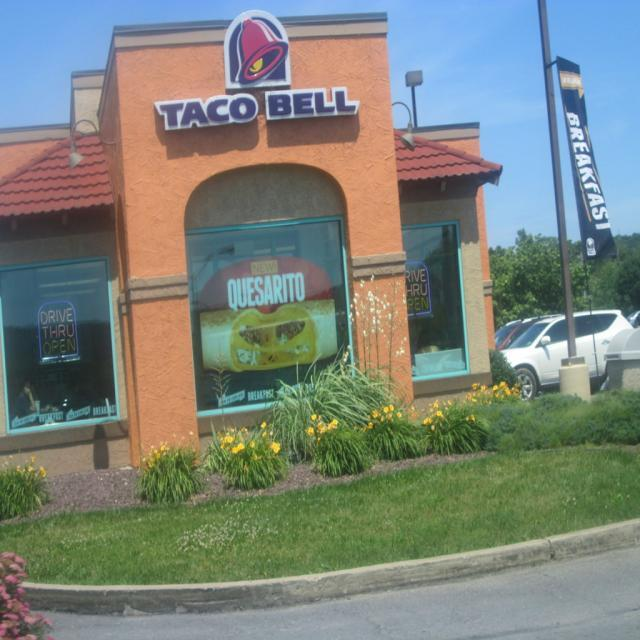truck: (503, 310, 633, 402), (494, 318, 528, 353)
